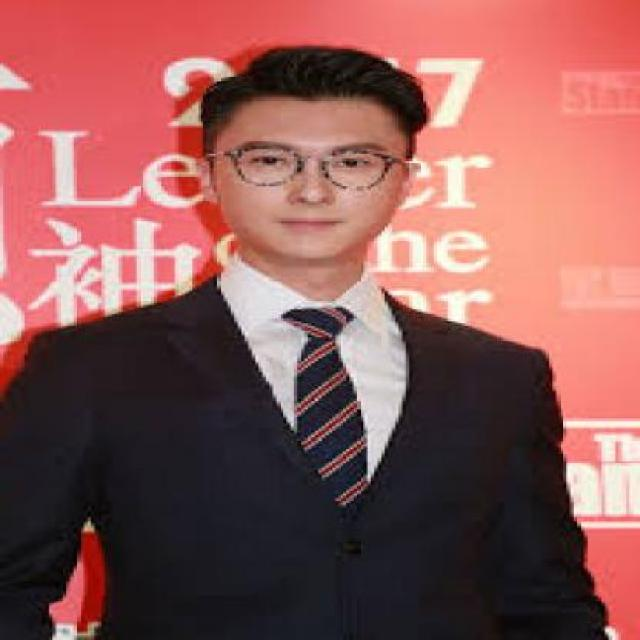Glasses: (208, 137, 414, 205)
